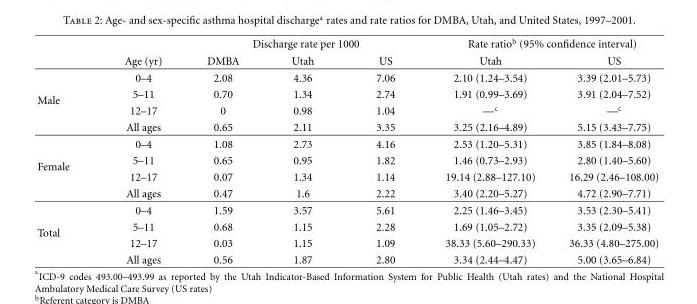table: (36, 36, 658, 265)
table column: (419, 36, 551, 265), (551, 36, 658, 265), (96, 36, 183, 265), (183, 36, 264, 265), (264, 36, 344, 265), (344, 36, 419, 265), (36, 36, 96, 265)
table column header: (36, 36, 658, 69)
table row: (36, 51, 658, 69), (36, 101, 658, 118), (36, 118, 658, 135), (36, 151, 658, 168), (36, 184, 658, 201), (36, 201, 658, 218), (36, 234, 658, 251), (36, 69, 658, 85), (36, 85, 658, 101), (36, 135, 658, 151), (36, 168, 658, 184), (36, 218, 658, 234), (36, 36, 658, 51), (36, 251, 658, 265)
table spanning cell: (36, 69, 96, 135), (36, 135, 96, 201), (36, 201, 96, 265), (419, 36, 658, 51), (183, 36, 419, 51), (96, 36, 183, 69)
